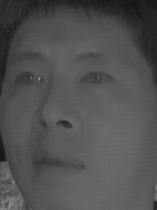eye: (78, 66, 114, 89), (13, 69, 46, 91)
mouth: (22, 144, 86, 183)
